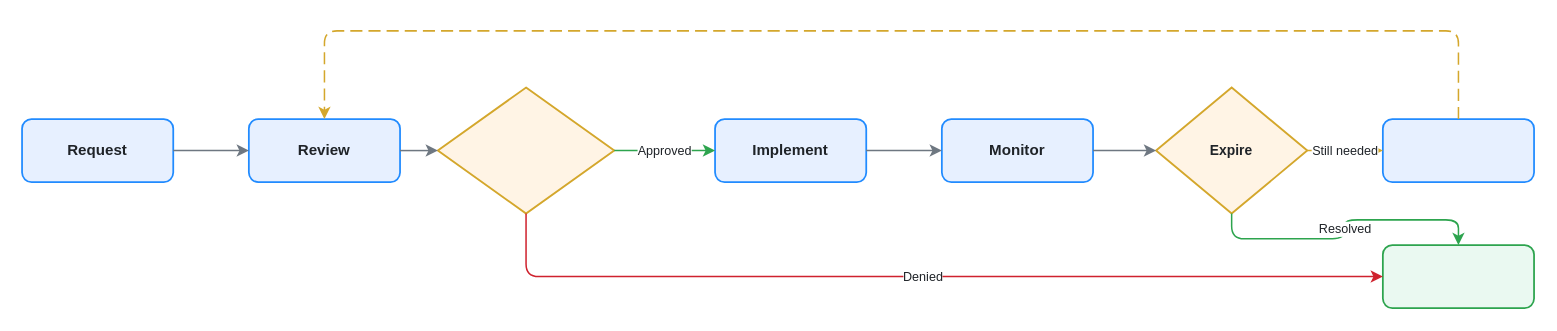
This 1557x331 diagram has some shape labels left out. The shapes that lost their labels are listed below. From the top down, each one's box as (x1, y1, x2, y2) in pixels, then its label:
(436, 86, 615, 214): Approve / Deny
(1381, 118, 1534, 182): Renew
(1381, 244, 1534, 308): Close
